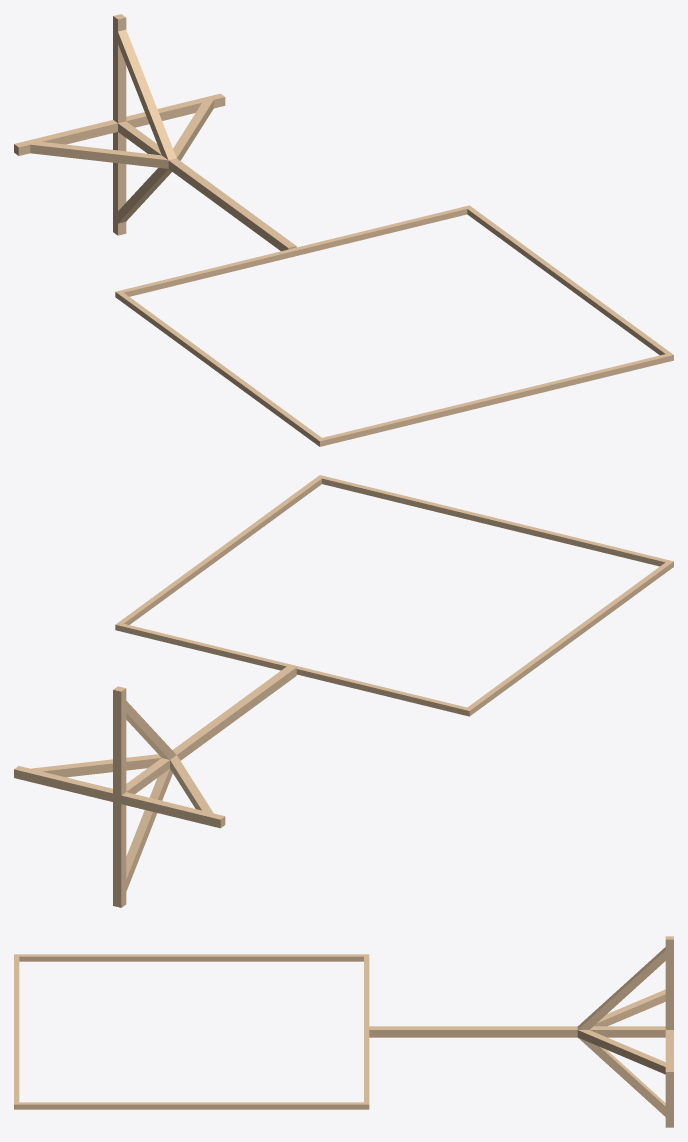
Rendered from RPG_wooden_gate.dae.
3 views of the same model, one above another, from view 1: azimuth 30°, elevation 25°; view 2: azimuth 150°, elevation 25°; view 3: azimuth 270°, elevation 25° (orthographic). The views are drawn at different scales.
Bounding box in the file's own units: 1.2 × 0.7 × 2.23.
